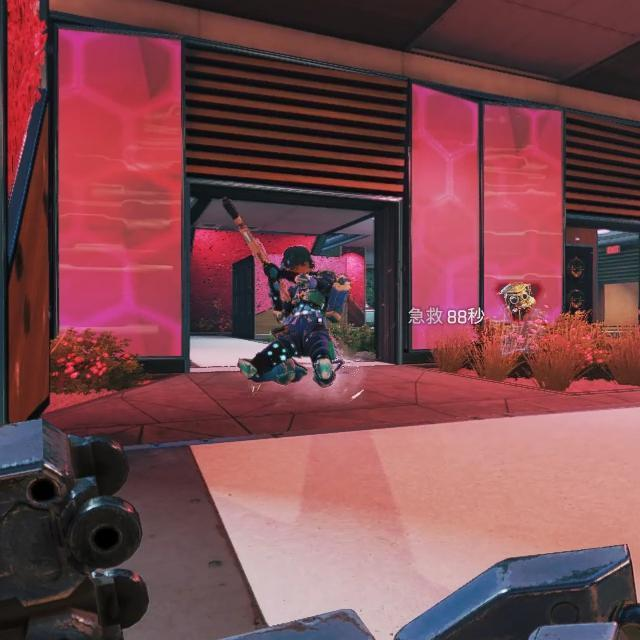avatar: (234, 244, 343, 387)
